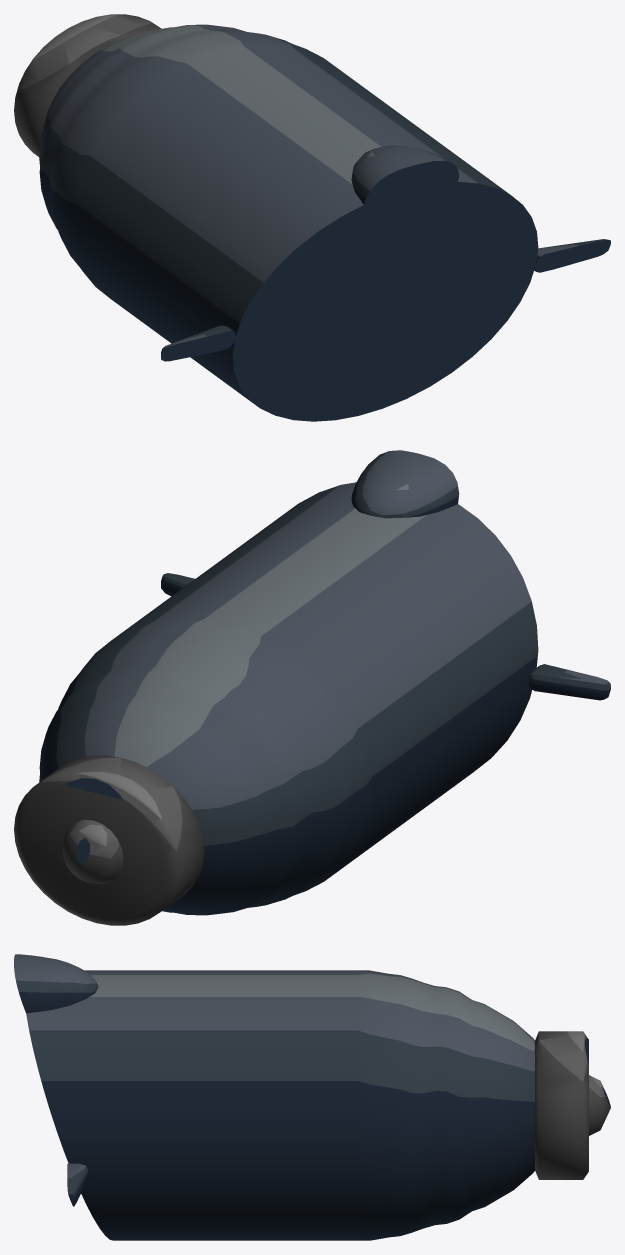
The model's file is coral_sub_top.glb.
The picture shows the model from 3 angles, top to bottom: view 1: azimuth 30°, elevation 25°; view 2: azimuth 150°, elevation 25°; view 3: azimuth 270°, elevation 25°; orthographic projection. The views are drawn at different scales.
Visible parts, largest first — view 1: coral_sub_top; view 2: coral_sub_top; view 3: coral_sub_top.
Boxes of the visible parts, left/top/right/bottom form: coral_sub_top: left=14, top=14, right=610, bottom=421; coral_sub_top: left=14, top=450, right=610, bottom=925; coral_sub_top: left=14, top=954, right=610, bottom=1240.
Size of the model in its own units: 23.89 by 14.99 by 31.02.
